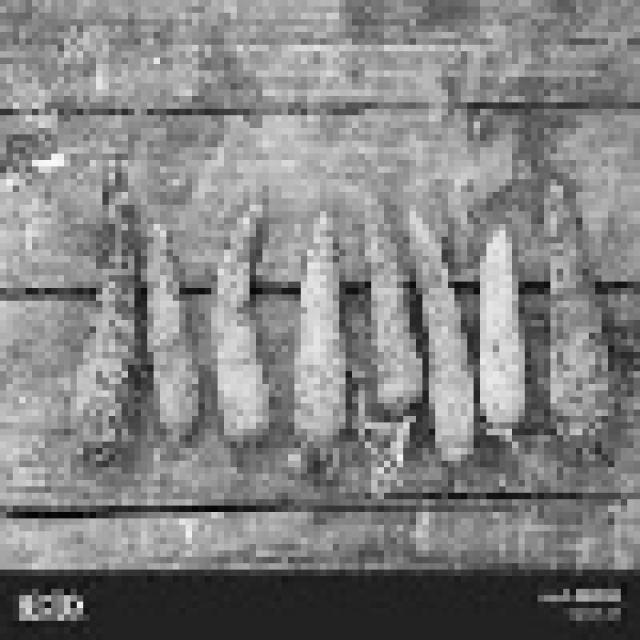Stale_Carrot: (64, 174, 171, 451), (390, 201, 493, 488), (192, 183, 278, 459), (280, 204, 350, 457)
